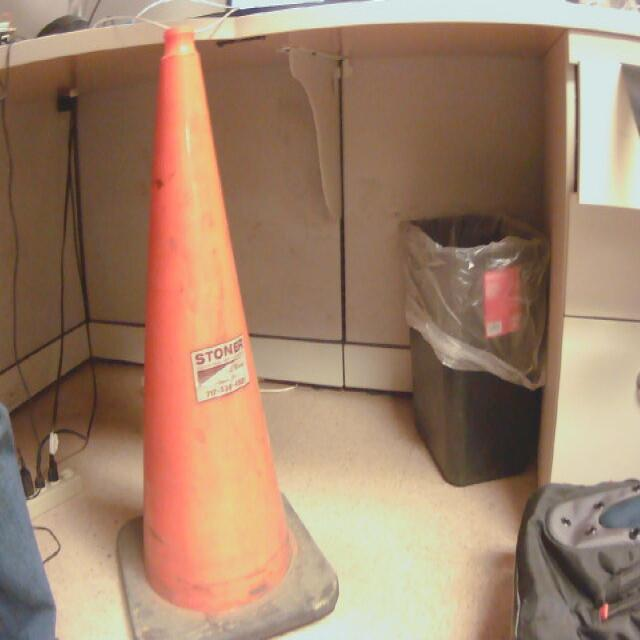traffic cone: (101, 18, 355, 640)
